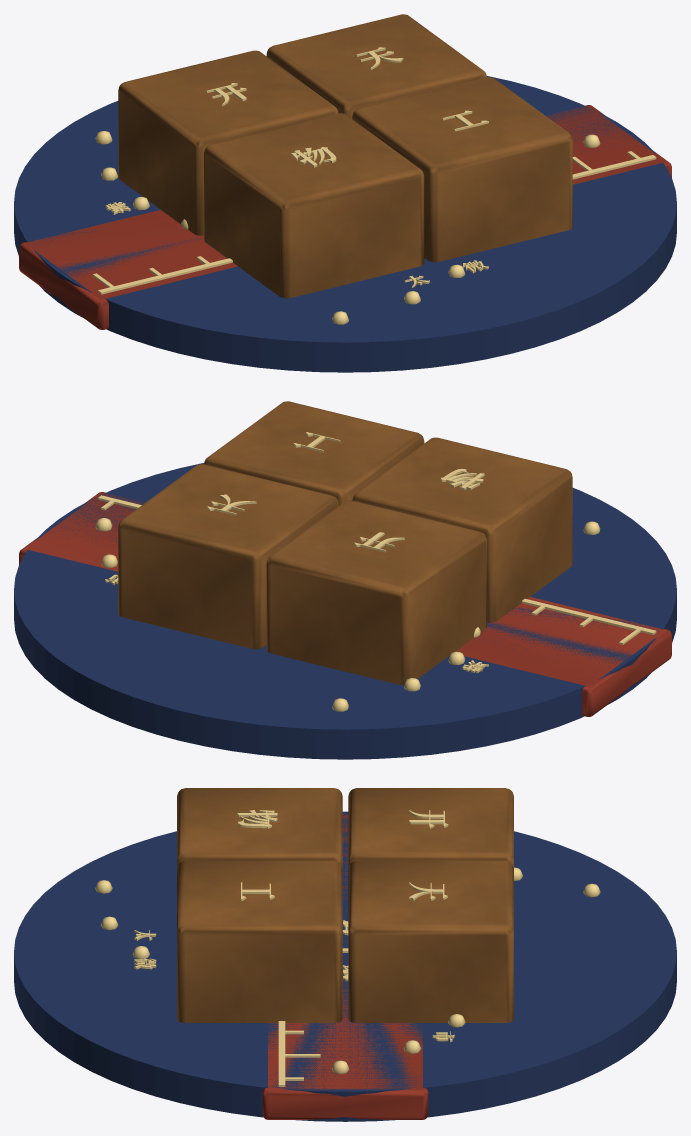
The model's file is tokens.glb.
The picture shows the model from 3 angles, top to bottom: view 1: azimuth 30°, elevation 25°; view 2: azimuth 150°, elevation 25°; view 3: azimuth 270°, elevation 25°; orthographic projection.
Visible parts, largest first — view 1: token10, token8, token6, token7, token9, token1, token5, token11; view 2: token9, token7, token11, token5, token8, token1, token6, token10; view 3: token11, token10, token6, token5, token9, token1, token7, token8.
Boxes of the visible parts, <box> form: token10: <box>179,202,676,372</box>; token8: <box>204,113,424,298</box>; token6: <box>352,77,572,262</box>; token7: <box>118,50,338,235</box>; token9: <box>14,101,247,353</box>; token1: <box>19,105,671,329</box>; token5: <box>266,14,486,118</box>; token11: <box>487,76,676,202</box>; token9: <box>179,589,676,759</box>; token7: <box>266,500,486,685</box>; token11: <box>14,468,266,740</box>; token5: <box>118,464,338,649</box>; token8: <box>352,437,572,622</box>; token1: <box>19,492,671,716</box>; token6: <box>204,401,424,505</box>; token10: <box>180,463,676,589</box>; token11: <box>179,951,676,1121</box>; token10: <box>14,831,342,1102</box>; token6: <box>177,860,342,1022</box>; token5: <box>348,860,513,1022</box>; token9: <box>342,811,676,951</box>; token1: <box>262,814,428,1119</box>; token7: <box>348,788,513,867</box>; token8: <box>177,788,342,867</box>.
Size of the model in its own units: 0.12 by 0.0254 by 0.12.
Materials: 4 (1 with a texture image).
